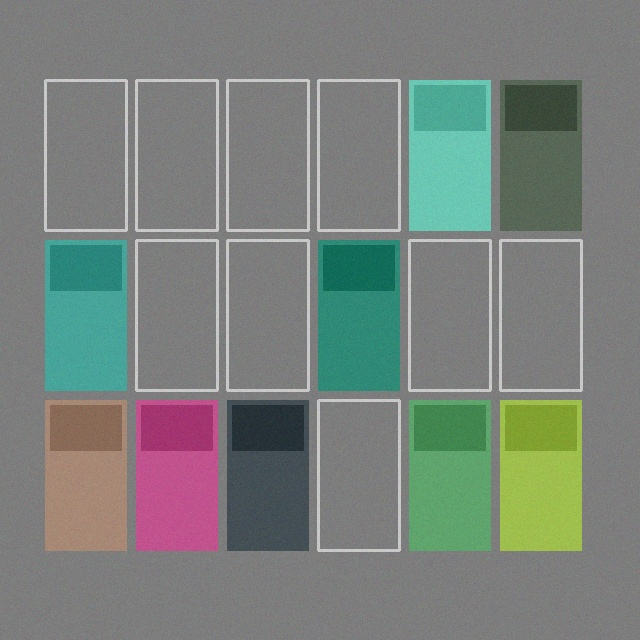space-empty: (45, 80, 126, 230), (136, 80, 217, 230), (227, 80, 308, 230), (318, 80, 399, 230), (136, 240, 217, 390), (227, 240, 308, 390), (409, 240, 490, 390), (500, 240, 581, 390), (318, 400, 399, 550)
space-occupied: (409, 80, 490, 230), (500, 80, 581, 230), (45, 240, 126, 390), (318, 240, 399, 390), (45, 400, 126, 550), (136, 400, 217, 550), (227, 400, 308, 550), (409, 400, 490, 550), (500, 400, 581, 550)
